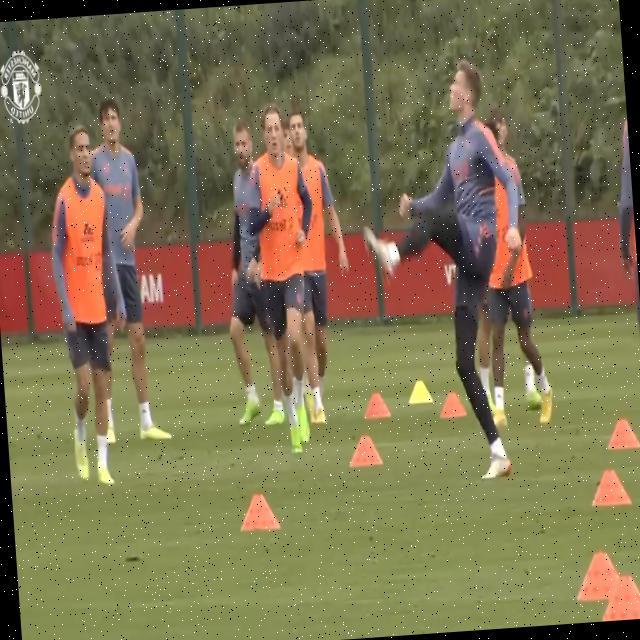Adidas: (79, 218, 95, 243), (273, 188, 289, 211)
